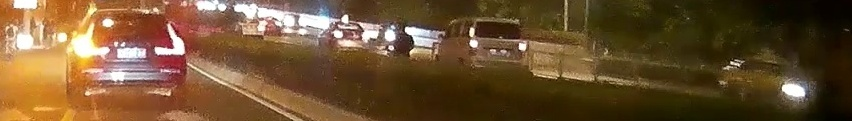L_light: (77, 22, 109, 55), (469, 40, 477, 54)
R_light: (153, 23, 186, 57), (517, 42, 526, 57)
T_light: (123, 13, 142, 18), (493, 21, 505, 25)
night-left: (69, 8, 189, 101)
night-no: (467, 17, 526, 76)
